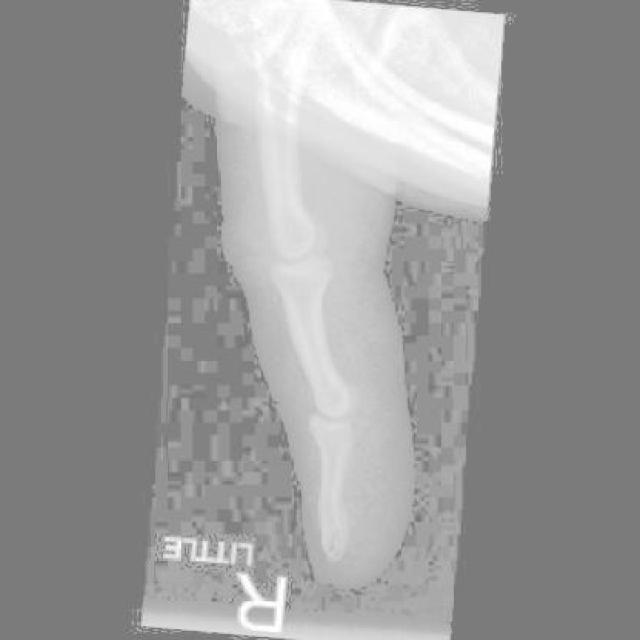Fracture: (309, 478, 363, 534)
